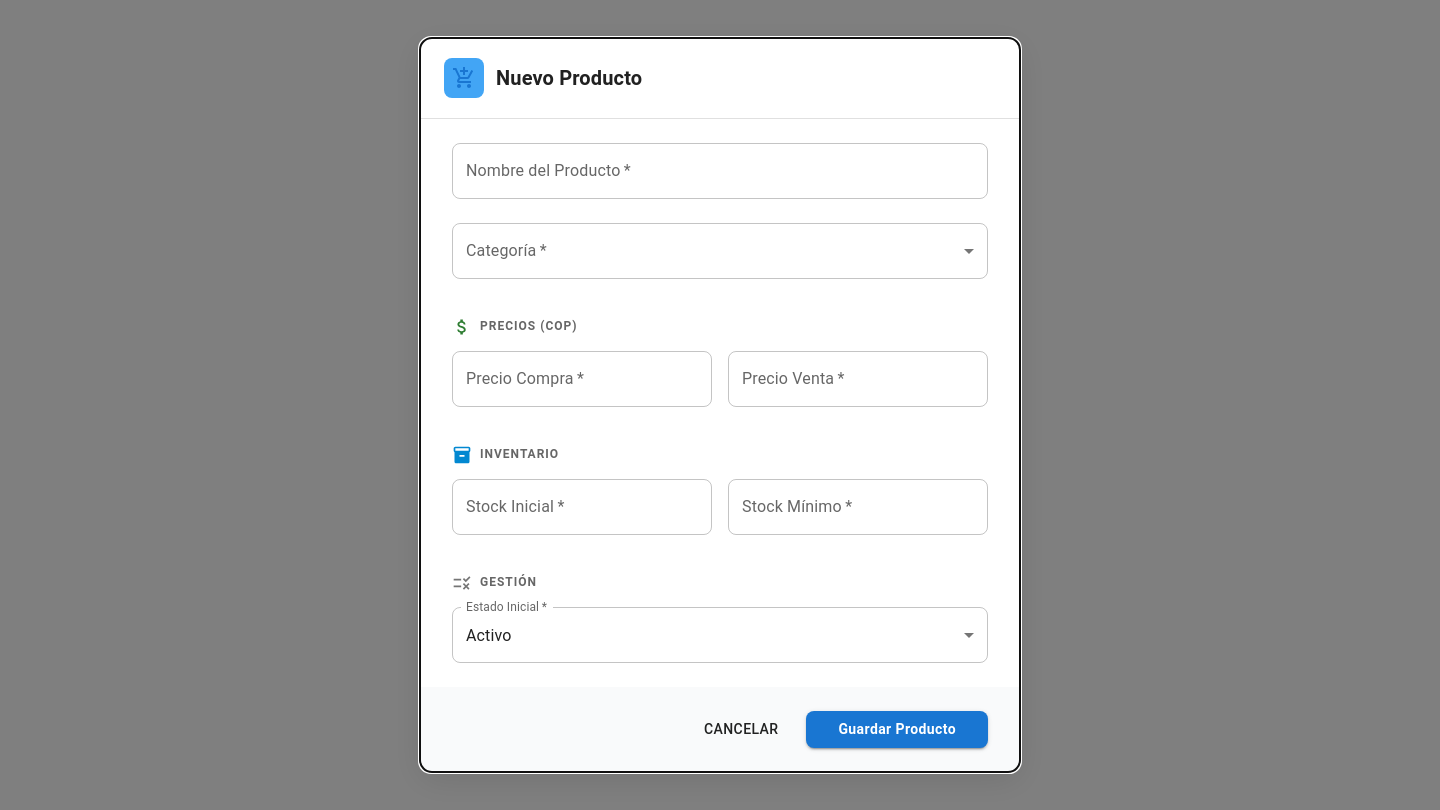
it: ProductModal › no envía si faltan campos obligatorios
Click the button "Guardar Producto" at (897, 729), box [806,711,988,748]
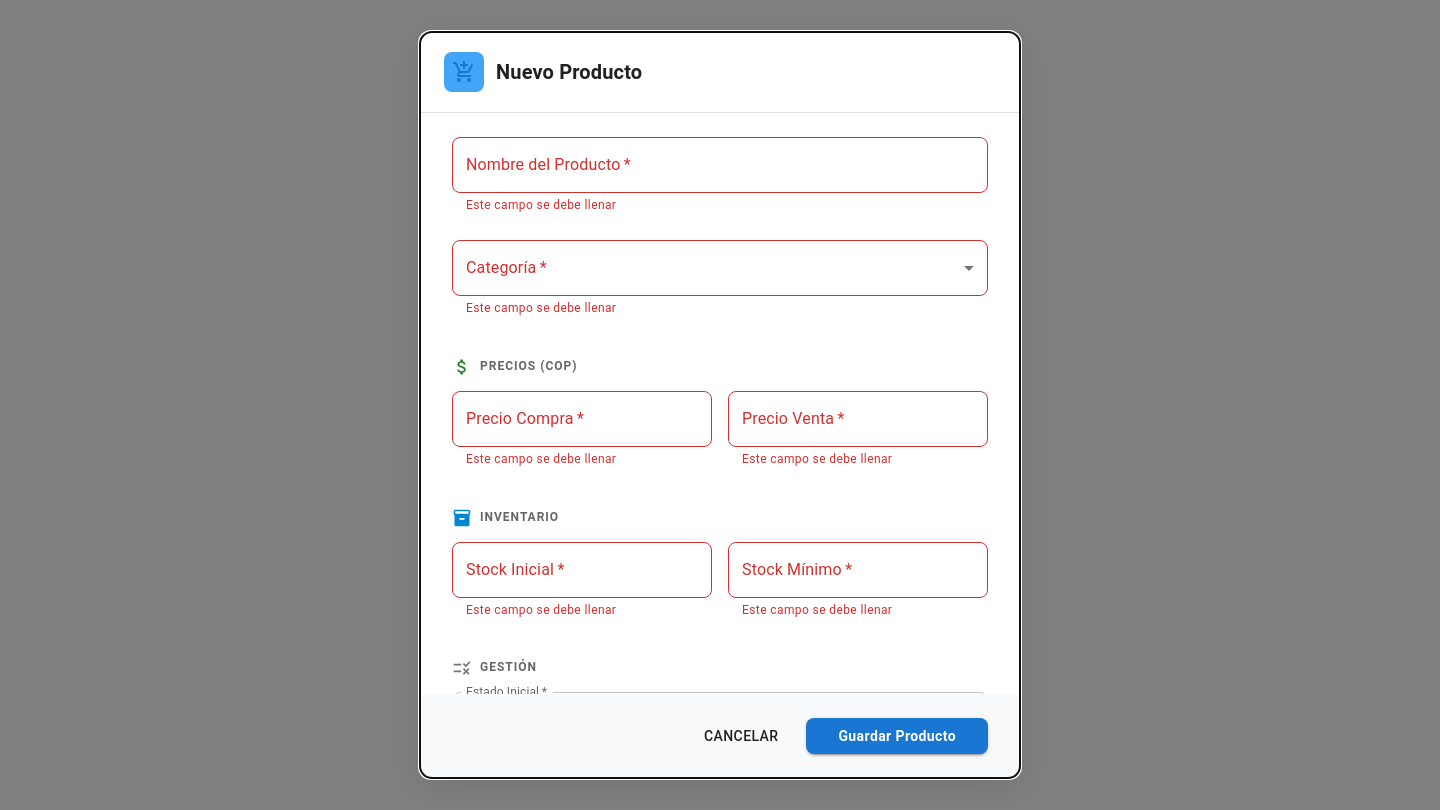
Expected: the text "Este campo se debe llenar" is shown 6 times, [466,198,616,212]; [466,301,616,315]; [466,452,616,466]; [742,452,892,466]; [466,602,616,616]; [742,602,892,616]
